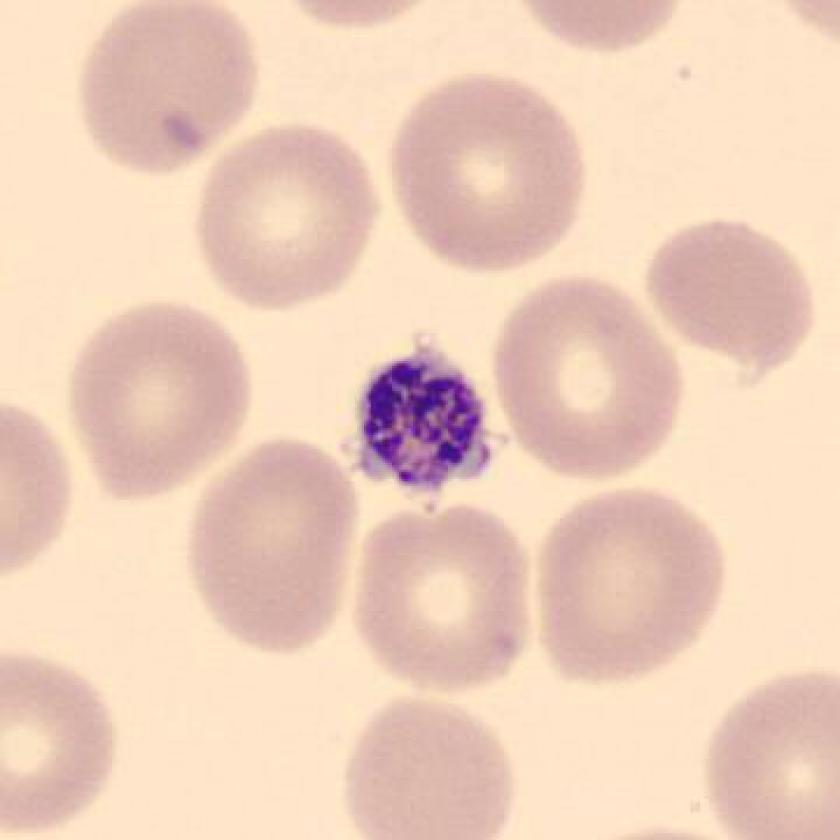platelets: (342, 330, 510, 508)
